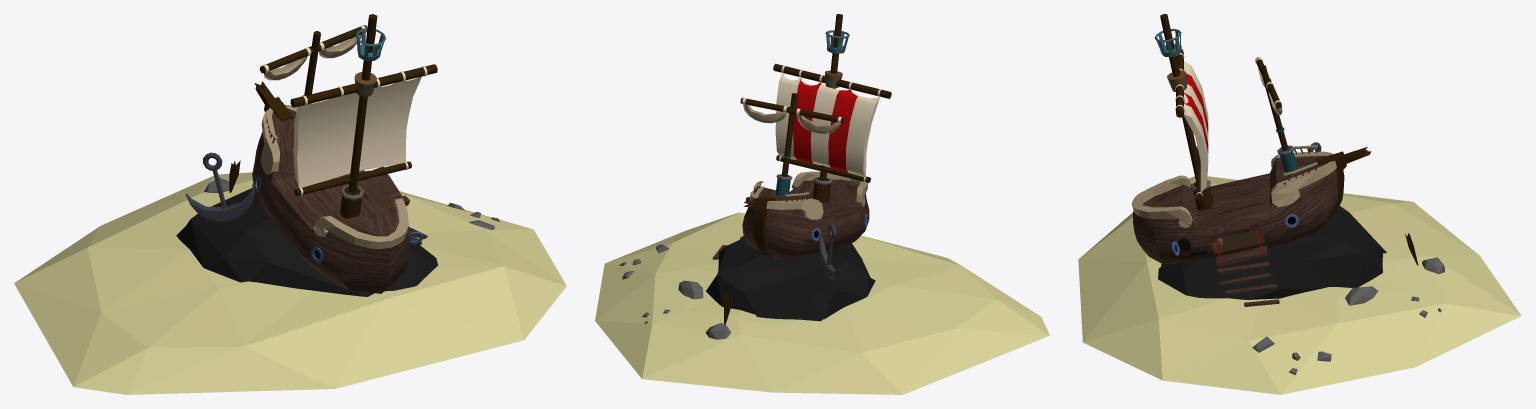
The picture shows the model from 3 angles, left to right: view 1: azimuth 30°, elevation 25°; view 2: azimuth 150°, elevation 25°; view 3: azimuth 270°, elevation 25°; orthographic projection. The views are drawn at different scales.
Parts seen in each view (by area): view 1: Sand, Hull, Rock, Cylinder.011, Back, Cylinder.008, Cylinder.010, Achor_Bottom, Sphere, Front, Cylinder.009, Cylinder.001 (+3 smaller); view 2: Sand, Rock, Cylinder.011, Hull, Bowsprit, Front, Cylinder.010, Sphere, Back, Cylinder.001, Cylinder, Cylinder.009 (+2 smaller); view 3: Sand, Hull, Rock, Cylinder.011, Back, Front, Cylinder.008, Bowsprit, Entrance Plank, Medium Rock 2, Cylinder.
Boxes of the visible parts, <box> form: Sand: <box>14,172,566,394</box>; Hull: <box>252,110,410,293</box>; Rock: <box>176,187,438,296</box>; Cylinder.011: <box>293,76,421,187</box>; Back: <box>313,198,408,248</box>; Cylinder.008: <box>348,14,377,193</box>; Cylinder.010: <box>290,64,437,107</box>; Achor_Bottom: <box>185,183,254,221</box>; Sphere: <box>264,34,361,80</box>; Front: <box>261,104,297,174</box>; Cylinder.009: <box>294,161,411,195</box>; Cylinder.001: <box>259,25,367,73</box>; Sand: <box>595,212,1049,394</box>; Rock: <box>706,238,875,321</box>; Cylinder.011: <box>775,73,879,177</box>; Hull: <box>742,179,869,258</box>; Bowsprit: <box>744,196,775,257</box>; Front: <box>749,185,823,219</box>; Cylinder.010: <box>773,63,891,98</box>; Sphere: <box>743,104,840,133</box>; Back: <box>791,171,868,206</box>; Cylinder.001: <box>740,97,844,123</box>; Cylinder: <box>781,93,797,176</box>; Cylinder.009: <box>776,155,870,182</box>; Sand: <box>1078,176,1521,394</box>; Hull: <box>1133,156,1337,264</box>; Rock: <box>1158,206,1386,299</box>; Cylinder.011: <box>1184,61,1208,192</box>; Back: <box>1131,175,1192,227</box>; Front: <box>1271,151,1336,207</box>; Cylinder.008: <box>1160,14,1200,181</box>; Bowsprit: <box>1315,147,1371,223</box>; Entrance Plank: <box>1216,245,1267,266</box>; Medium Rock 2: <box>1345,286,1378,305</box>; Cylinder: <box>1260,65,1288,150</box>.
Size of what is drawn, in the model's own units: 32.83 by 19.61 by 27.97.
Materials: 21 (2 with a texture image).
